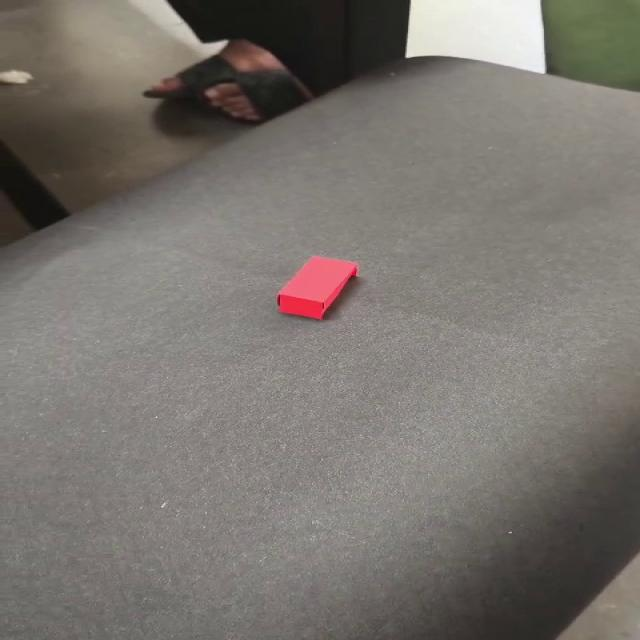red block: (274, 255, 358, 320)
